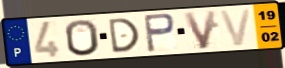4: (33, 19, 63, 60)
D: (107, 17, 142, 55)
O: (63, 18, 101, 58)
P: (142, 12, 178, 54)
V: (182, 9, 219, 51), (218, 7, 254, 48)
